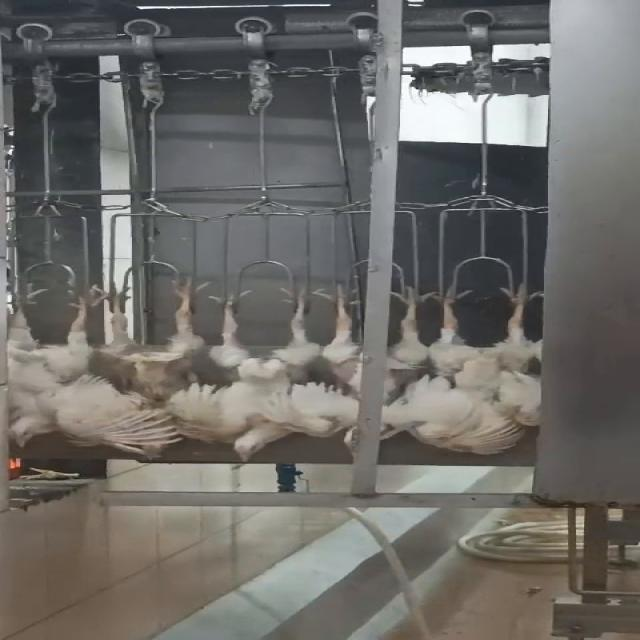chicken: (0, 277, 187, 463), (194, 284, 336, 464), (423, 278, 539, 460), (332, 281, 438, 404), (106, 275, 202, 407)
